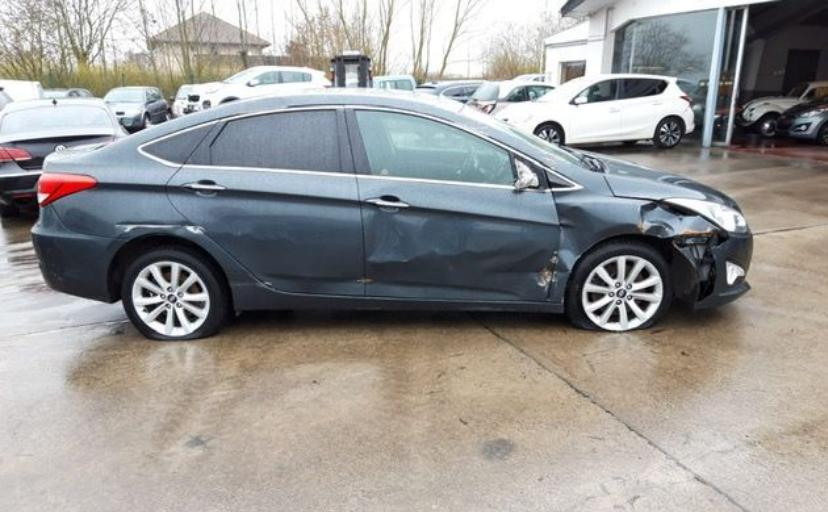Back-bumper: (31, 204, 129, 303)
Back-door: (166, 105, 365, 295)
Back-wheel: (120, 245, 233, 340)
Back-window: (209, 111, 341, 172), (139, 121, 217, 167)
Fender: (549, 159, 720, 302)
Front-bumper: (695, 237, 754, 313)
Front-door: (345, 105, 560, 301)
Front-wheel: (566, 241, 673, 331)
Front-window: (356, 111, 515, 186)
Headlight: (664, 198, 750, 238)
Hood: (578, 150, 743, 216)
Mirror: (515, 159, 539, 190)
Quarter-panel: (43, 147, 262, 283)
Rocker-panel: (230, 283, 565, 313)
Roof: (218, 88, 464, 122)
Tail-light: (37, 173, 97, 206)
Trunk: (44, 142, 113, 159)
Windshield: (459, 103, 590, 169)
